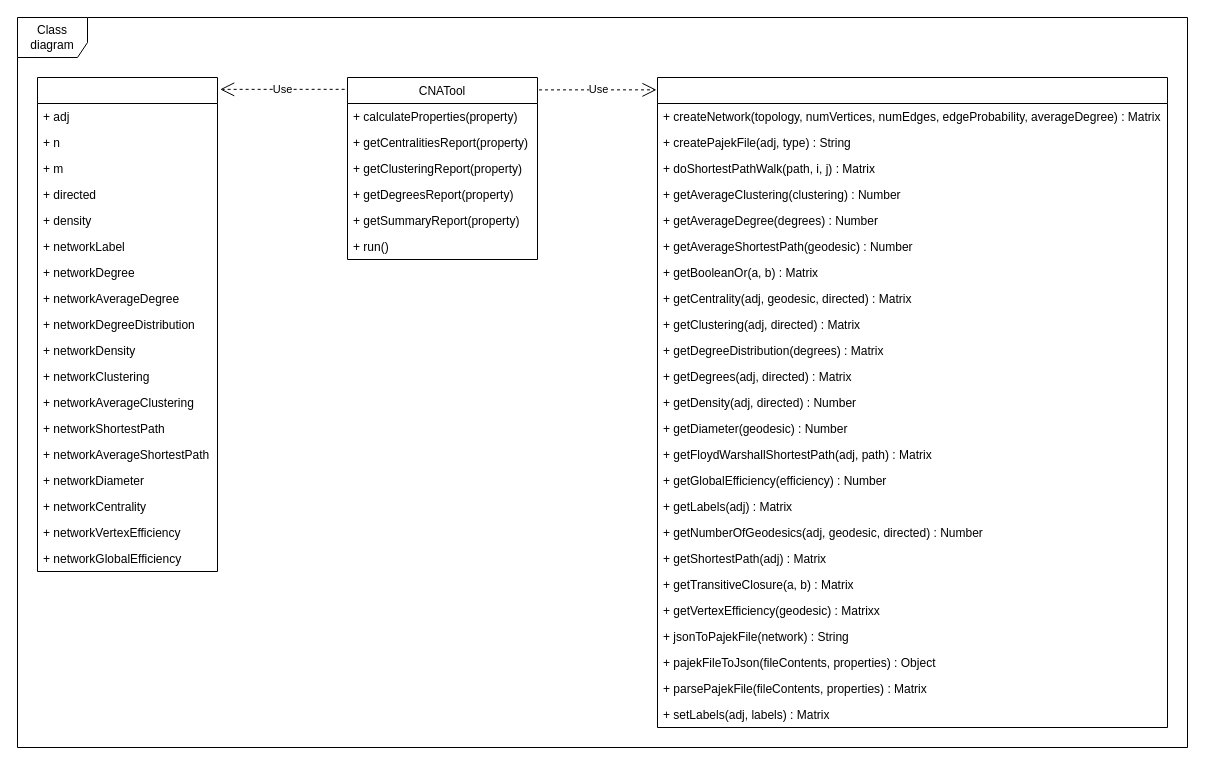
This 1205x765 diagram has some shape labels left out. Here are the shapes that lost their labels. From the top down, the box of each, then its label:
(36, 76, 218, 572): Property
(656, 76, 1168, 728): CNA
